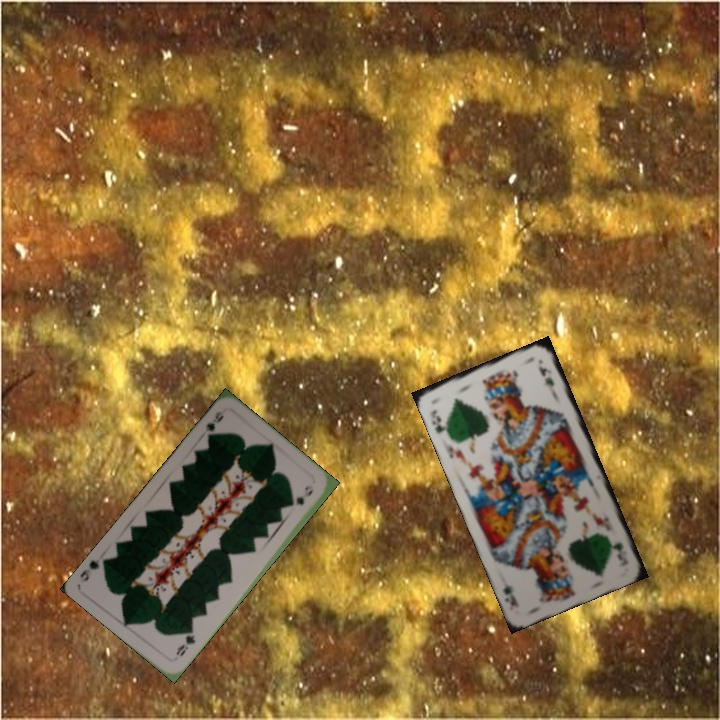G9: (201, 407, 226, 444), (172, 626, 198, 659)
GK: (426, 406, 452, 438), (610, 538, 626, 564)
